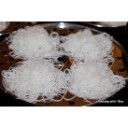idiyappam: (2, 61, 66, 102), (67, 59, 121, 95), (8, 28, 60, 57), (62, 31, 115, 58)
